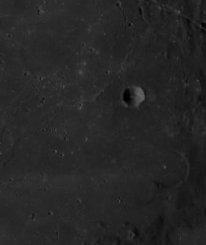crater: (105, 59, 171, 136)
